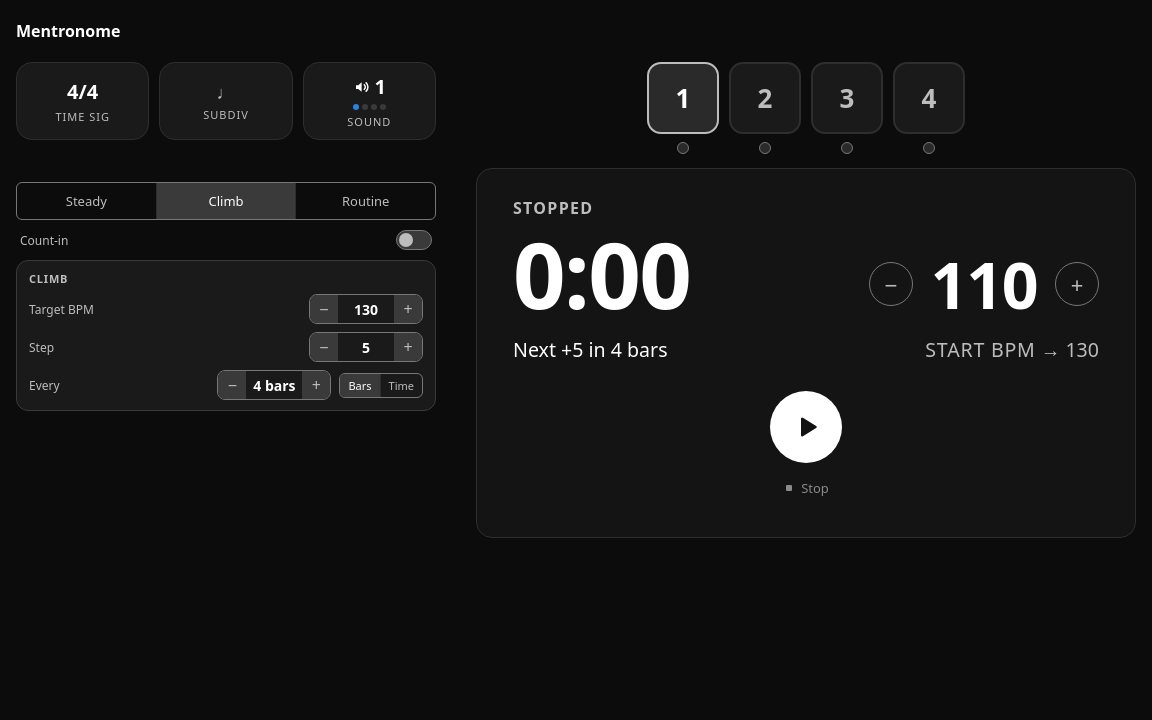
App › keeps the current Climb step when Start BPM changes while playing
Click the button named "Play": (806, 427) x1=770 y1=391 x2=842 y2=463
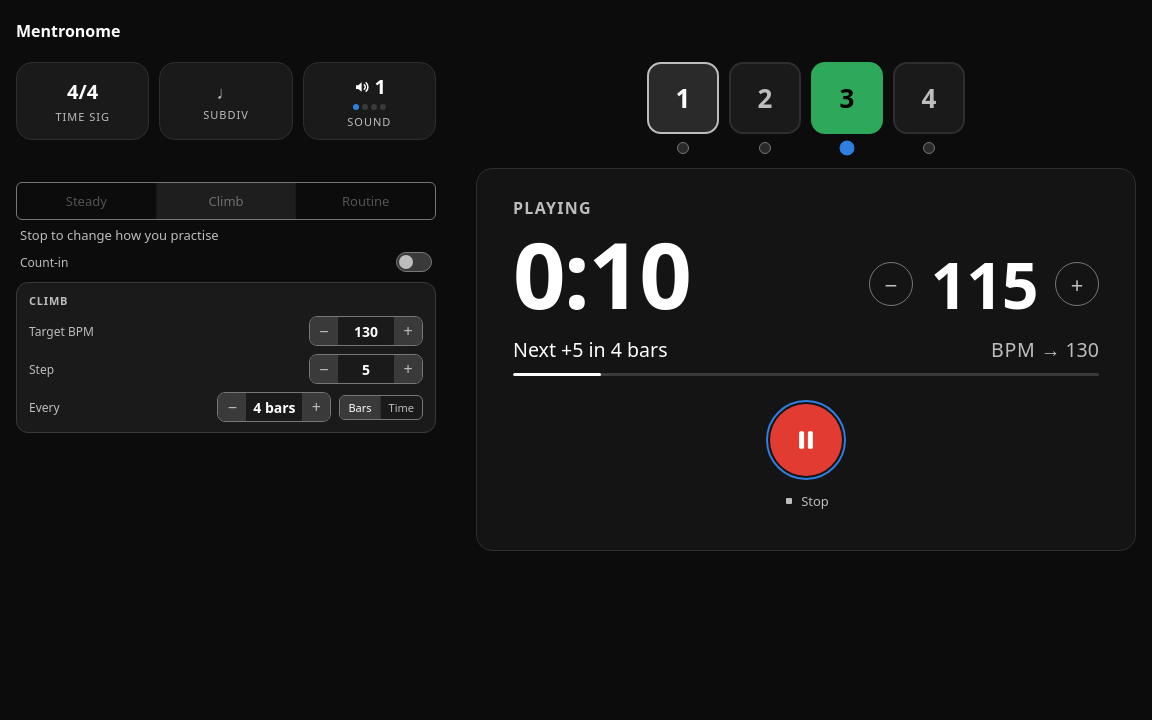
Expected: the field with test id "bpm-current" holds "115", x1=925 y1=240 x2=1043 y2=328
// Shift+↓ ten times takes Start from 110 to 60
Type keys "{Shift>}{ArrowDown}{ArrowDown}{ArrowDown}{ArrowDown}{ArrowDown}{ArrowDown}{ArrowDown}{ArrowDown}{ArrowDown}{ArrowDown}{/Shift}"
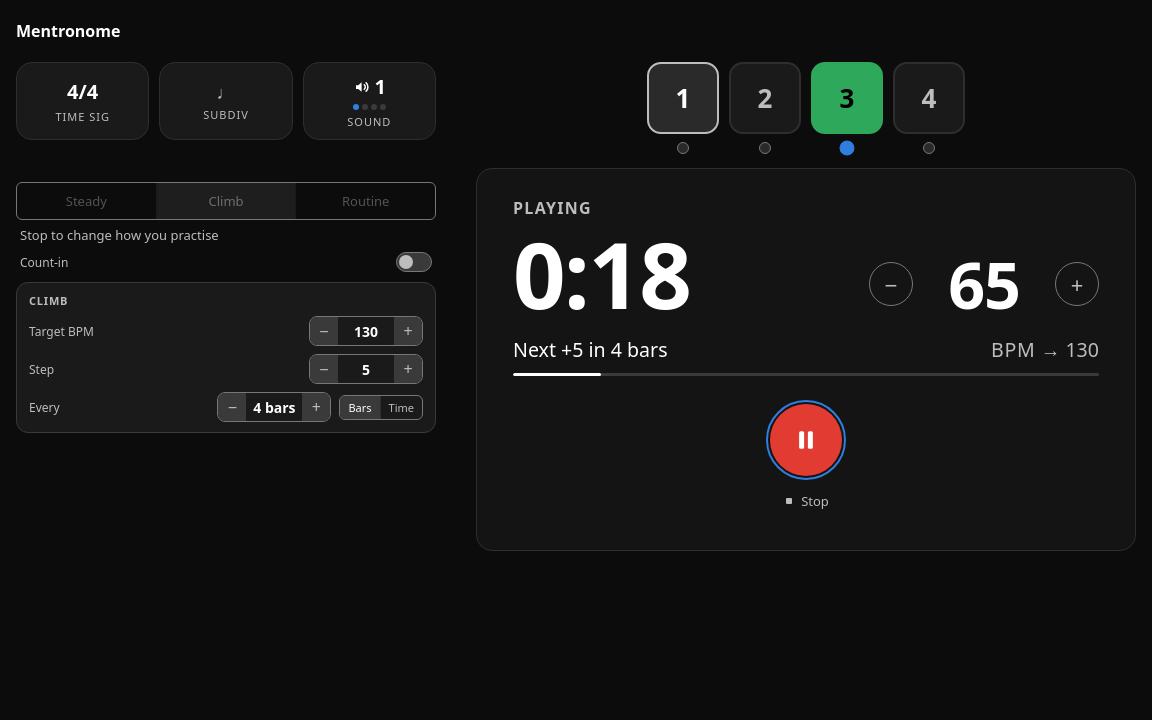
Expected: the field with test id "bpm-current" holds "65", x1=925 y1=240 x2=1043 y2=328
